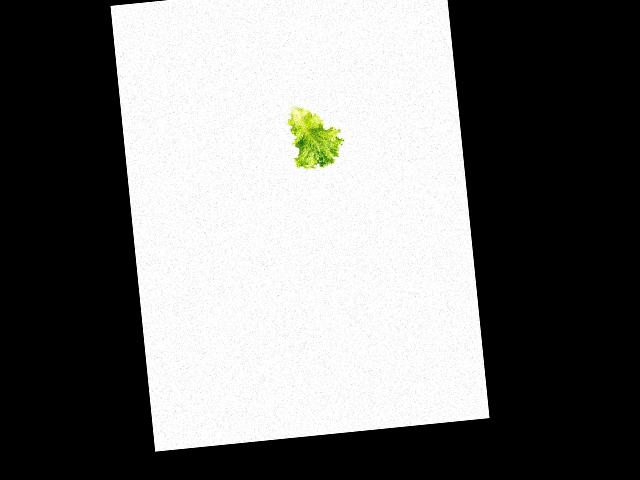lettuce: (288, 100, 345, 171)
